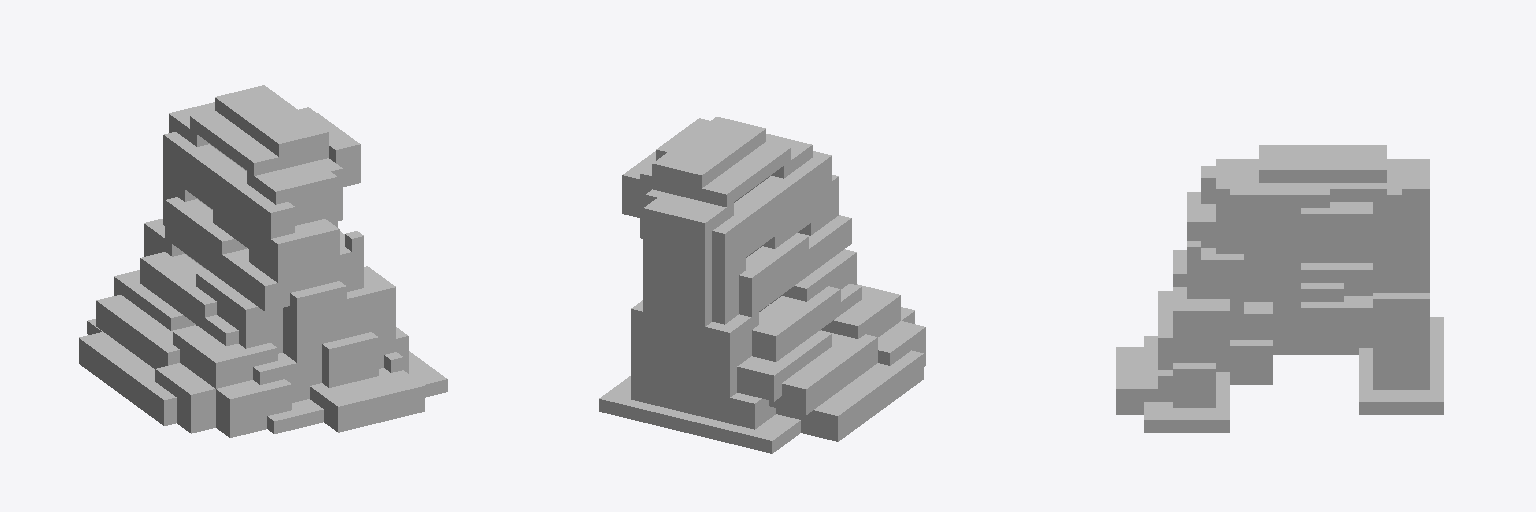
The model's file is cave.obj.
3 views of the same model, side by side, from view 1: azimuth 30°, elevation 25°; view 2: azimuth 150°, elevation 25°; view 3: azimuth 270°, elevation 25° (orthographic).
Size of the model in its own units: 20 by 18 by 23.